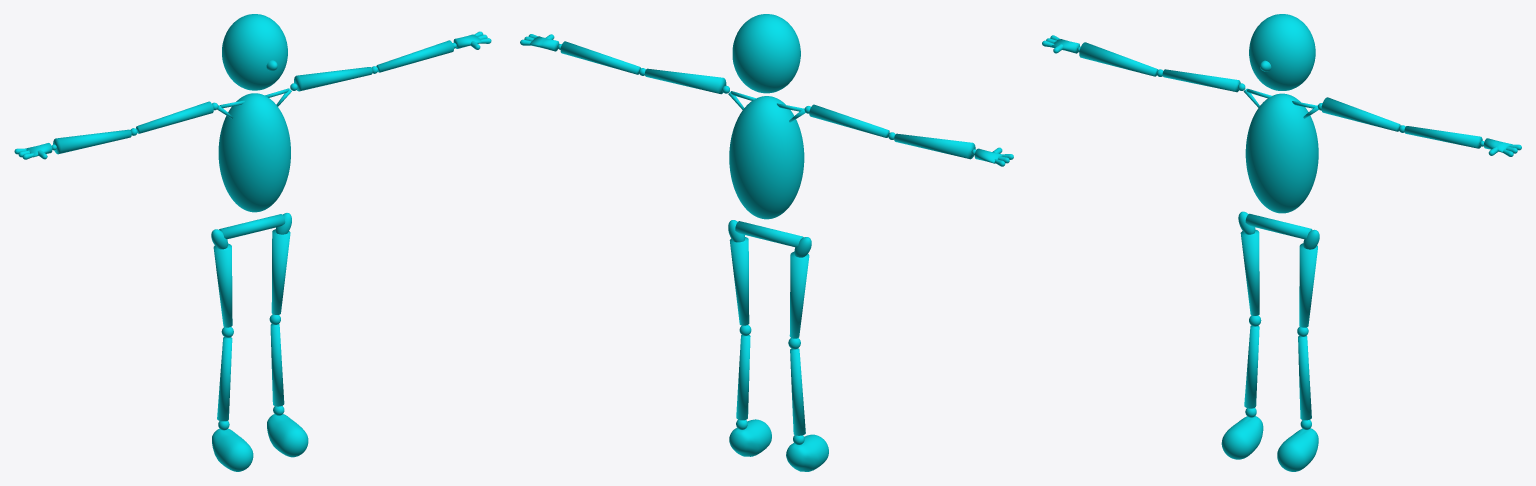
The model's file is stick man.glb.
The picture shows the model from 3 angles, left to right: view 1: azimuth 30°, elevation 25°; view 2: azimuth 150°, elevation 25°; view 3: azimuth 330°, elevation 25°; orthographic projection. The views are drawn at different scales.
Parts seen in each view (by area): view 1: Sphere.001; view 2: Sphere.001; view 3: Sphere.001.
Part boxes in pixels (<box>): Sphere.001: <box>14,14,491,471</box>; Sphere.001: <box>520,14,1013,471</box>; Sphere.001: <box>1042,14,1521,471</box>.
Bounding box in the file's own units: 8.33 × 7.42 × 1.21.
